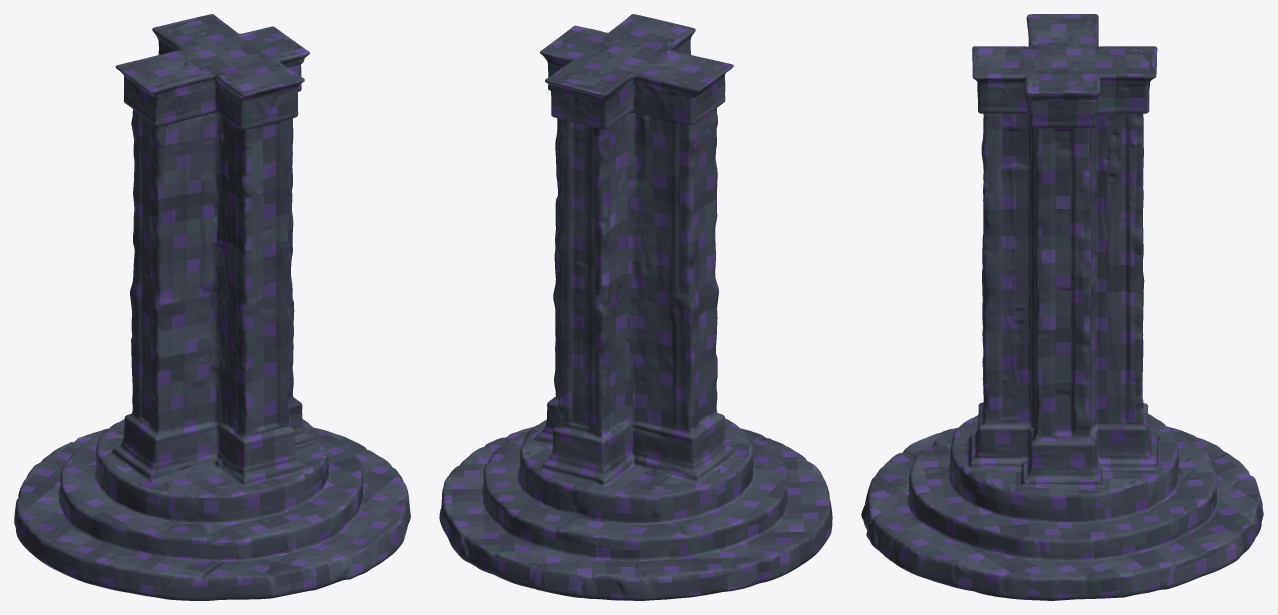
File: weathered-monolith-pillar-generated-2026-04-19T23-24-06-758Z.glb
3 renders of one model, left to right at view 1: azimuth 30°, elevation 25°; view 2: azimuth 150°, elevation 25°; view 3: azimuth 270°, elevation 25°, orthographic.
Parts seen in each view (by area): view 1: temp_mesh.ply; view 2: temp_mesh.ply; view 3: temp_mesh.ply.
Boxes of the visible parts, x1,y1,x2,y2 form: temp_mesh.ply: (14,14,410,600); temp_mesh.ply: (439,14,832,600); temp_mesh.ply: (861,14,1263,600).
Bounding box in the file's own units: 1.54 × 1.97 × 1.54.
1 material, 1 textured.
